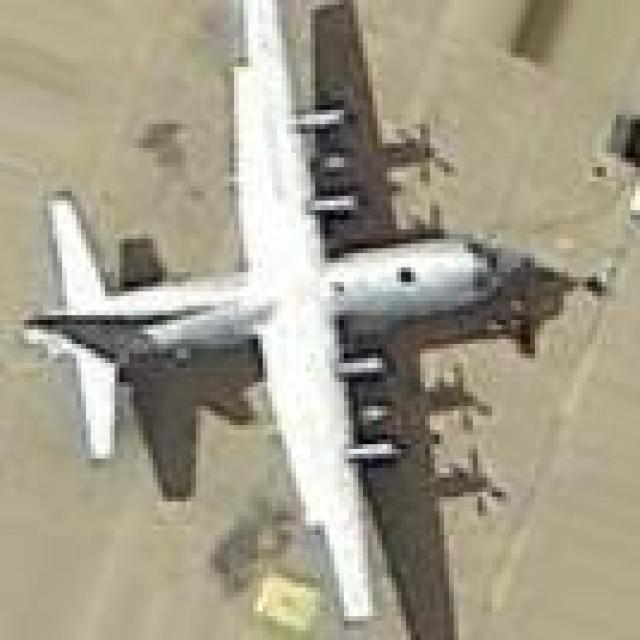C-130_TopDown: (19, 0, 576, 640)
